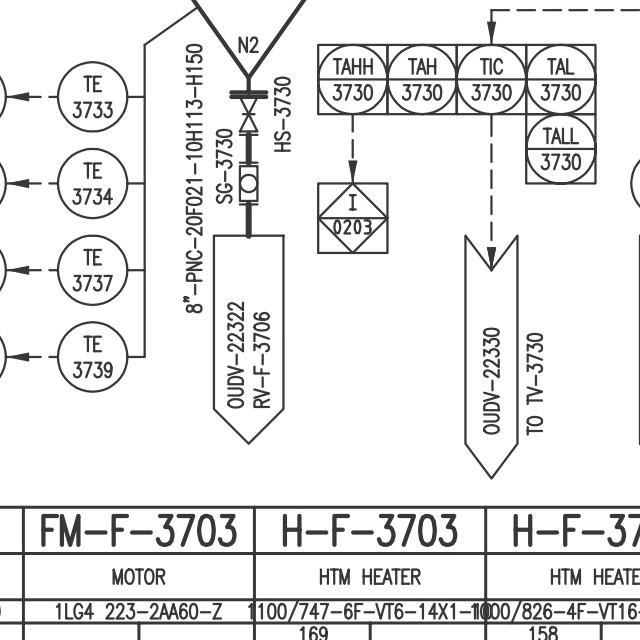GV: (226, 92, 267, 140)
SG: (233, 156, 266, 209)
